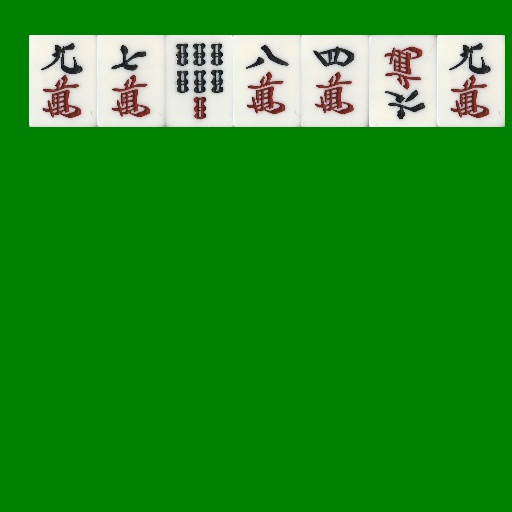4m: (301, 35, 369, 127)
6m: (369, 35, 437, 127)
7m: (97, 35, 165, 127)
7s: (165, 35, 233, 127)
8m: (233, 35, 301, 127)
9m: (29, 35, 97, 127), (437, 35, 505, 127)
